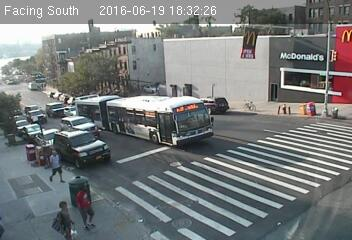neg: (236, 92, 260, 123), (300, 96, 320, 123), (1, 117, 18, 142), (277, 97, 293, 117)
pos: (65, 183, 102, 232), (37, 145, 70, 188), (48, 198, 78, 237)
